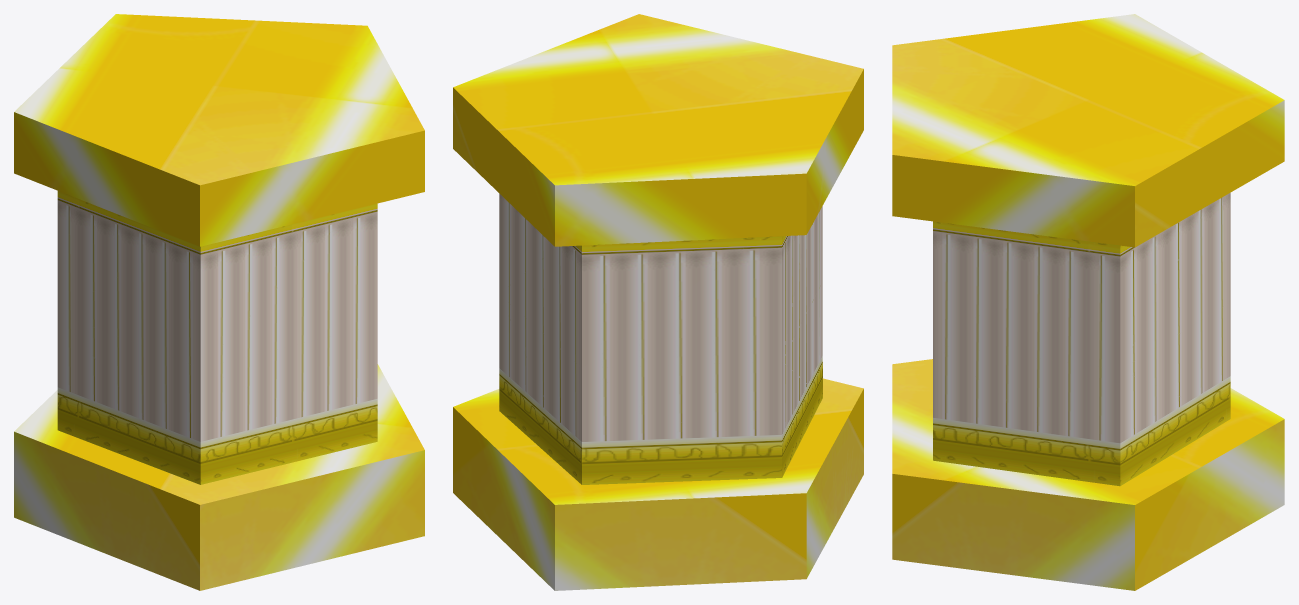
The model's file is Pedestel.glb.
The picture shows the model from 3 angles, left to right: view 1: azimuth 30°, elevation 25°; view 2: azimuth 150°, elevation 25°; view 3: azimuth 270°, elevation 25°; orthographic projection.
Parts seen in each view (by area): view 1: Pedestel; view 2: Pedestel; view 3: Pedestel.
Part boxes in pixels (x1,y1,x2,y2): Pedestel: (14,14,424,590); Pedestel: (453,14,863,590); Pedestel: (892,14,1284,590).
Bounding box in the file's own units: 60.21 × 66 × 58.
Materials: 2 (2 with a texture image).
